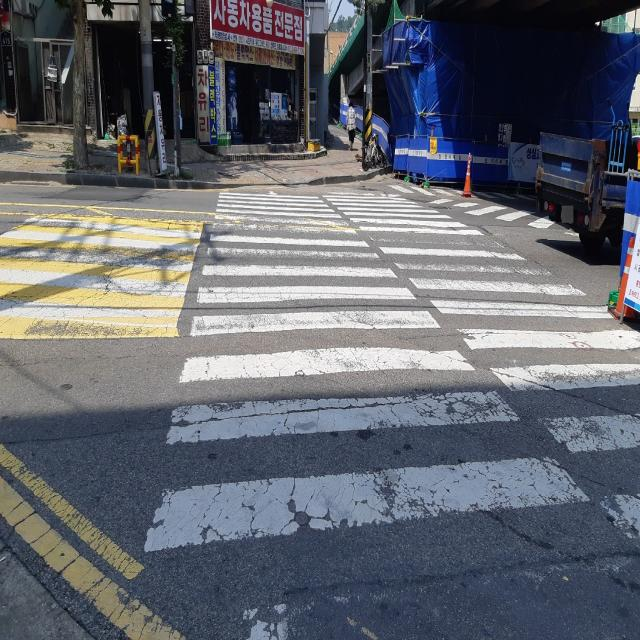횡단보도: (143, 189, 640, 640)
